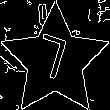L_S: (34, 32, 76, 90)
